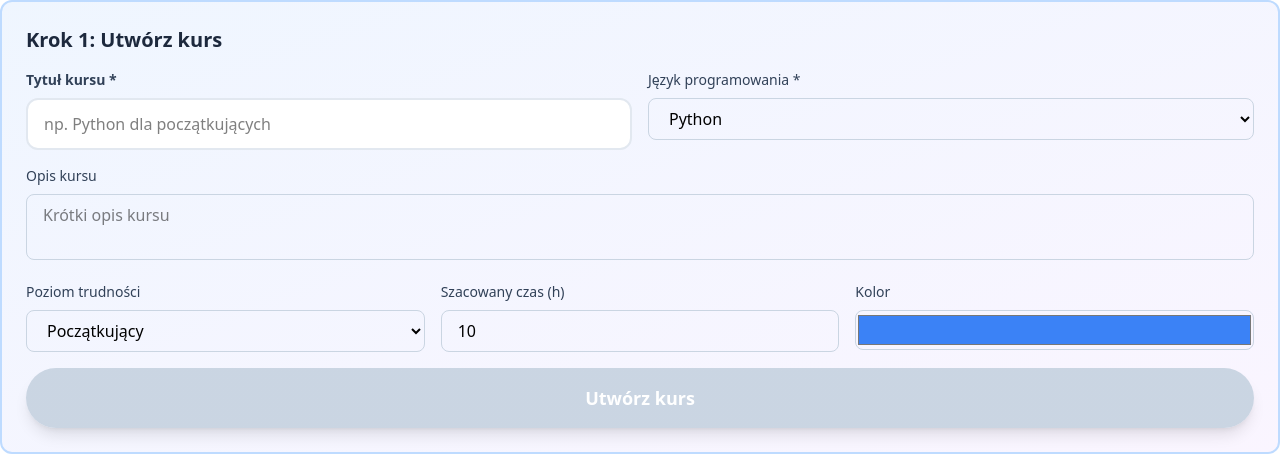
Test: CourseForm › enables submit button when title is filled
Type "Test Course" into the field with placeholder "np. Python dla początkujących".
click(329, 124); type("Test Course")  # box [26,98,632,150]
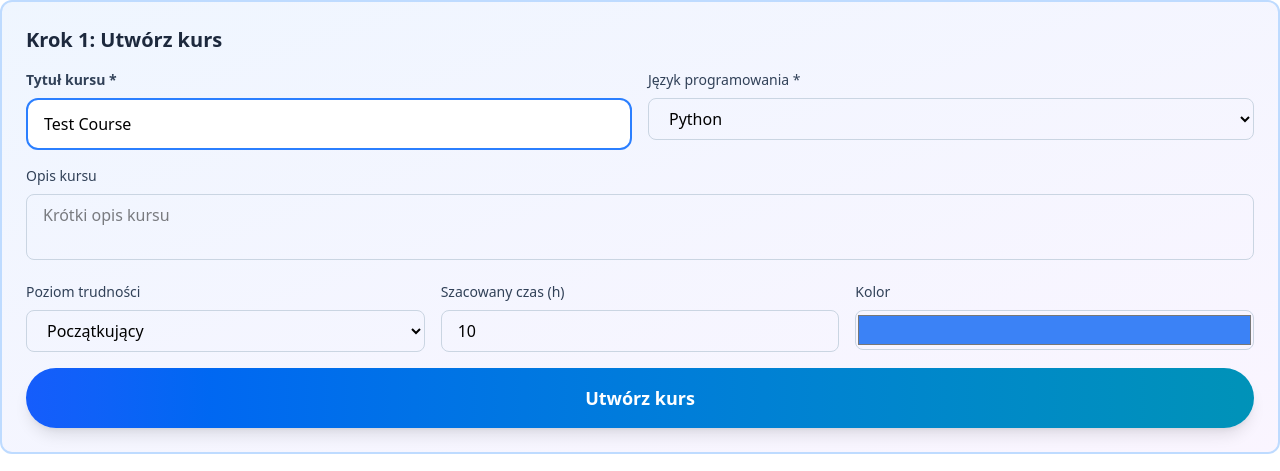
Result: the button "Utwórz kurs" is enabled at [26,368,1254,428]
